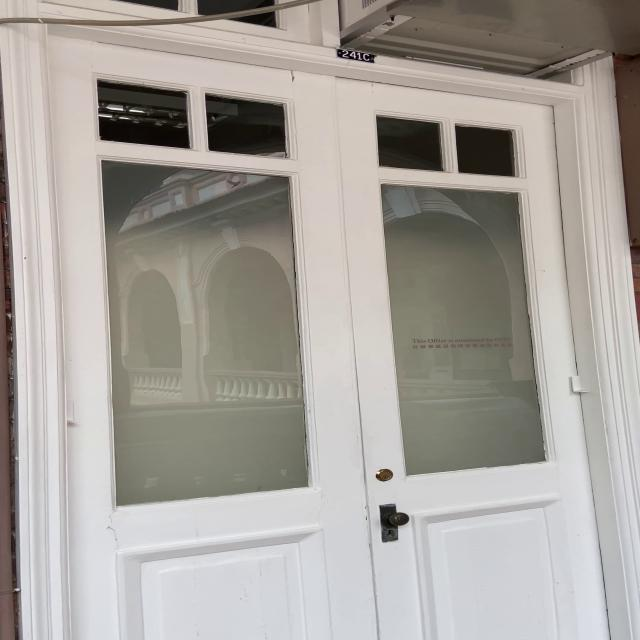room241c: (334, 44, 379, 68)
